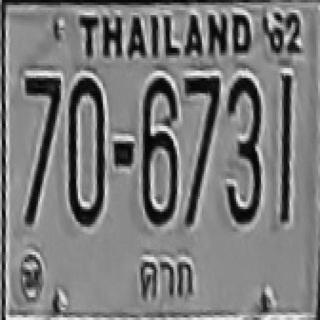N00: (67, 76, 105, 227)
N01: (280, 74, 292, 208), (280, 73, 292, 196)
N03: (225, 77, 261, 223)
N06: (141, 77, 177, 226)
N07: (183, 74, 219, 226), (24, 76, 60, 227), (24, 76, 60, 179), (184, 76, 220, 176), (183, 74, 219, 165), (24, 76, 60, 166)
P69: (126, 247, 207, 312)
